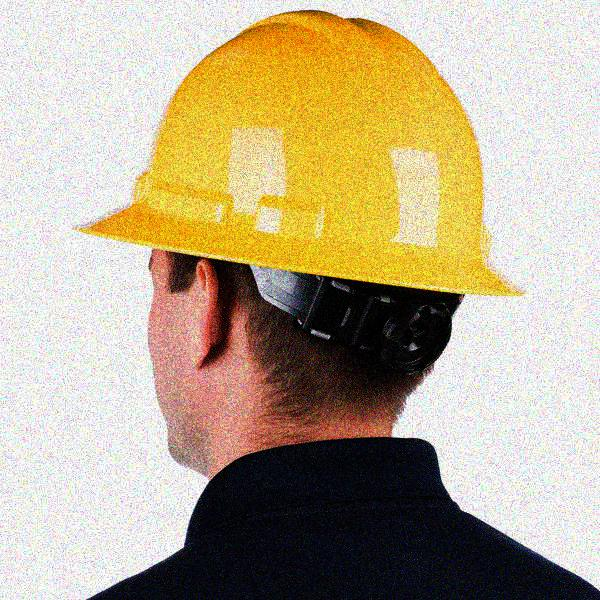helmet: (74, 8, 525, 482)
